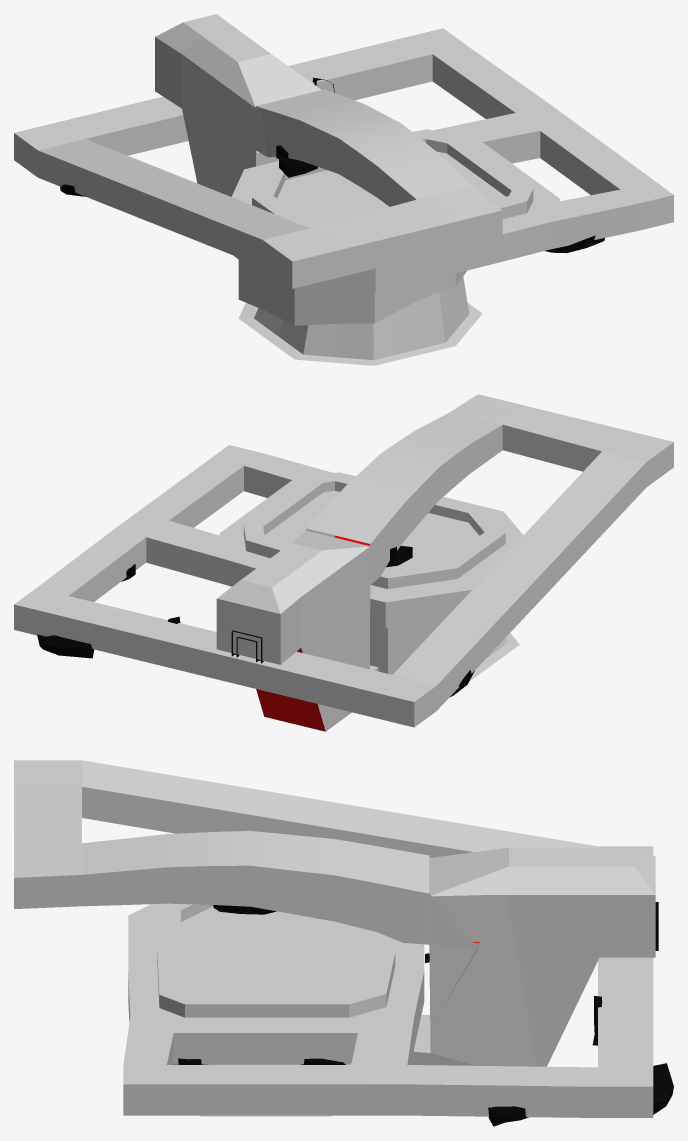
File: TownBWeaponRoom.fbx
3 renders of one model, top to bottom at view 1: azimuth 30°, elevation 25°; view 2: azimuth 150°, elevation 25°; view 3: azimuth 270°, elevation 25°, orthographic. The views are drawn at different scales.
Parts seen in each view (by area): view 1: TownBWeaponRoomMesh; view 2: TownBWeaponRoomMesh; view 3: TownBWeaponRoomMesh.
Part boxes in pixels (left/top/right/bottom): TownBWeaponRoomMesh: left=14, top=14, right=673, bottom=365; TownBWeaponRoomMesh: left=14, top=394, right=673, bottom=731; TownBWeaponRoomMesh: left=14, top=760, right=673, bottom=1126.
Bounding box in the file's own units: 16948 × 7034 × 19041.
